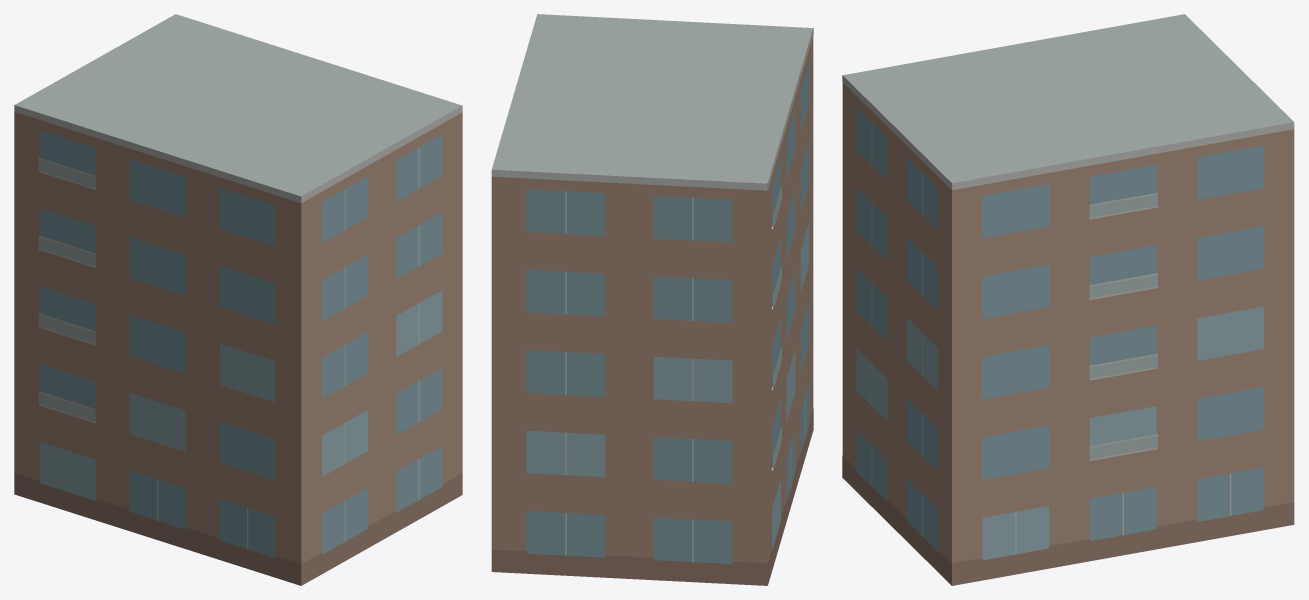
Rendered from survey-upis-32595220.glb.
3 renders of one model, left to right at view 1: azimuth 30°, elevation 25°; view 2: azimuth 150°, elevation 25°; view 3: azimuth 270°, elevation 25°, orthographic. The views are drawn at different scales.
Parts seen in each view (by area): view 1: survey-upis-32595220.tmp; view 2: survey-upis-32595220.tmp; view 3: survey-upis-32595220.tmp.
Part boxes in pixels (x1=…): survey-upis-32595220.tmp: x1=14, y1=14, x2=462, y2=585; survey-upis-32595220.tmp: x1=491, y1=14, x2=813, y2=585; survey-upis-32595220.tmp: x1=842, y1=14, x2=1294, y2=585.
Bounding box in the file's own units: 12.74 × 14.11 × 14.36.
